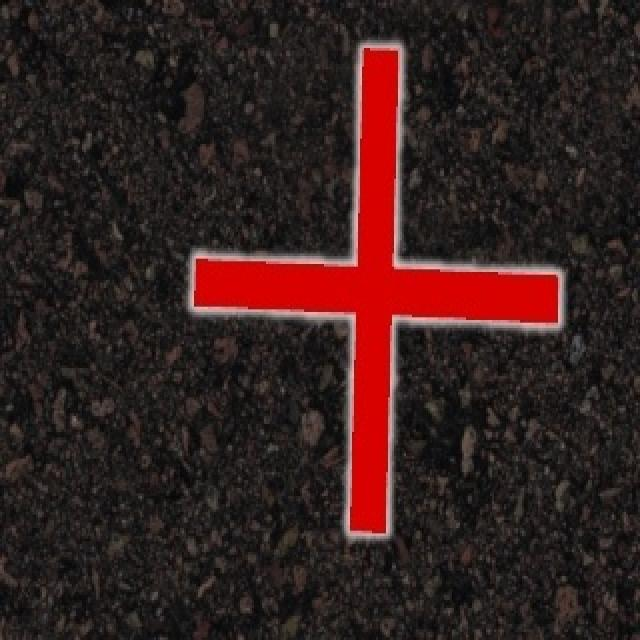x_marker: (191, 47, 559, 532)
